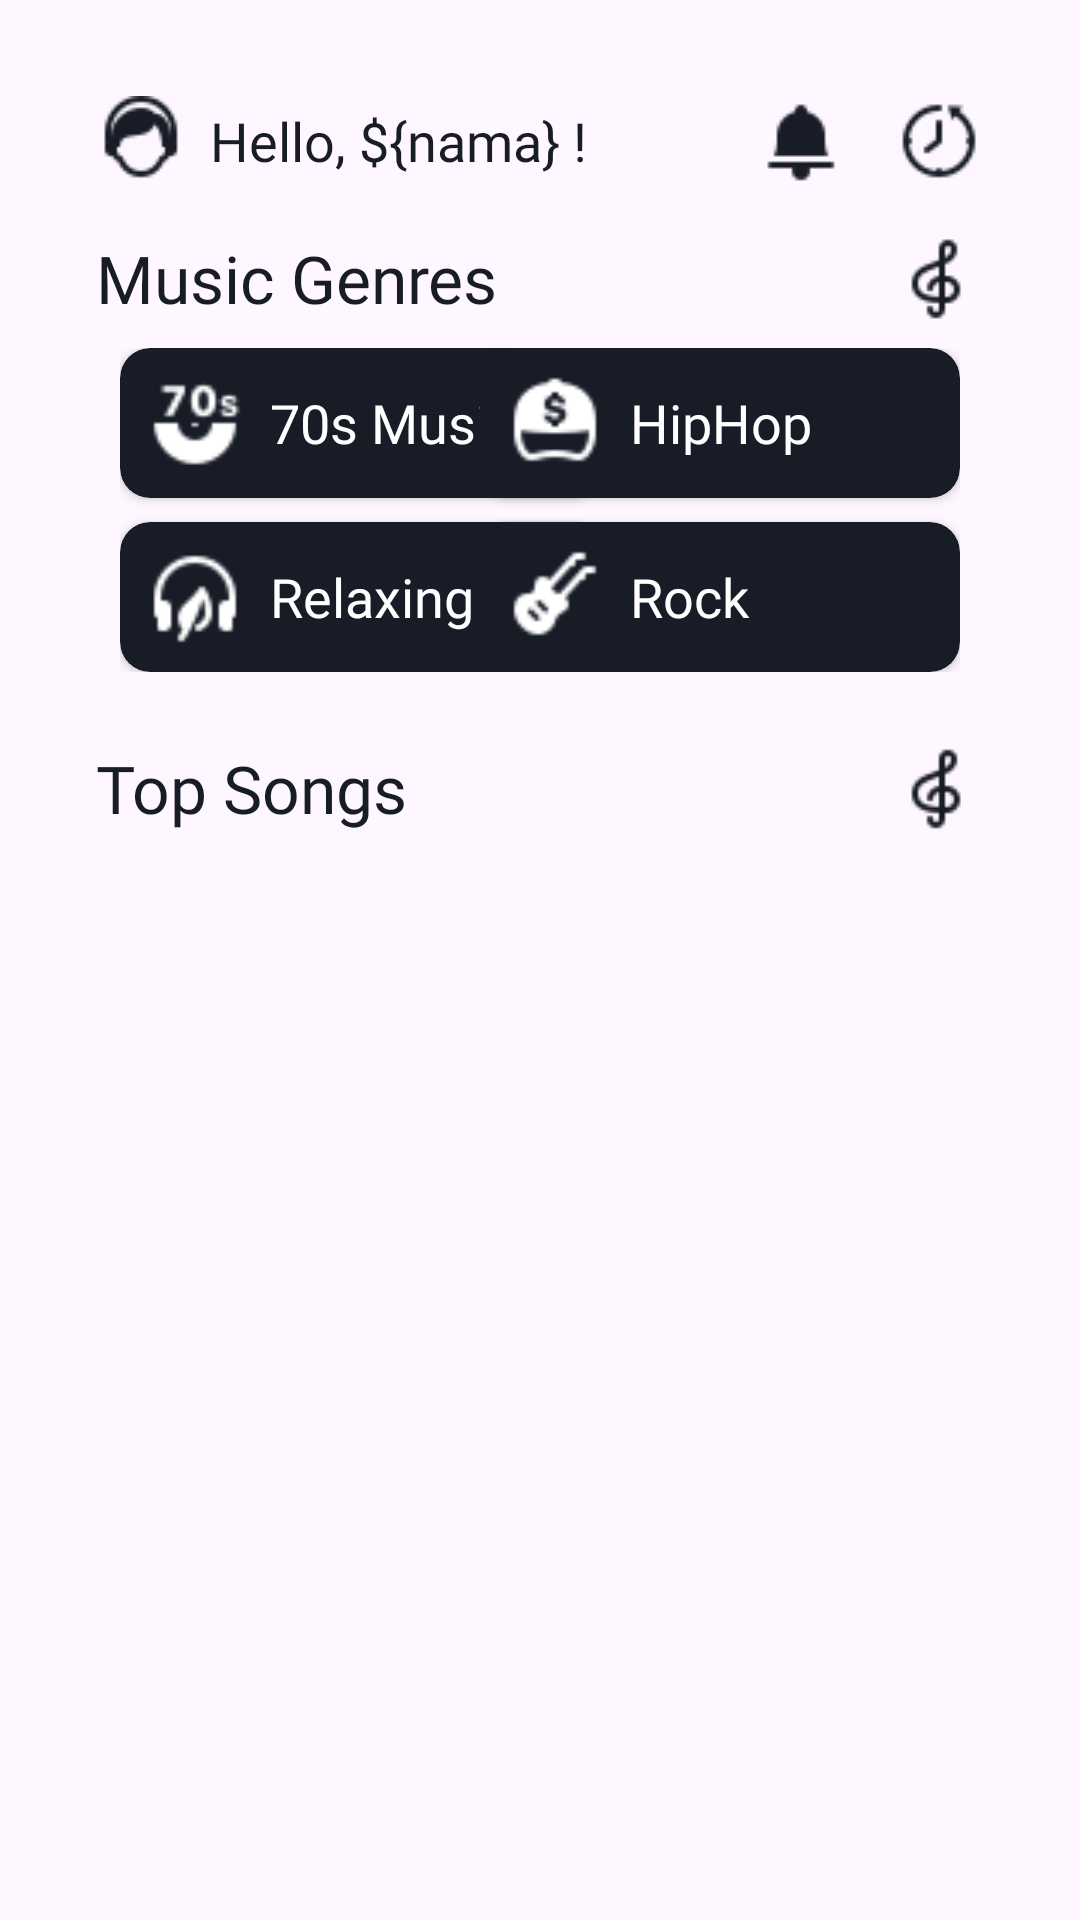

Point at icon controls on the screen. Image size 1080x1920, points as point (x, y).
history: point (939, 141)
notif: point (801, 142)
